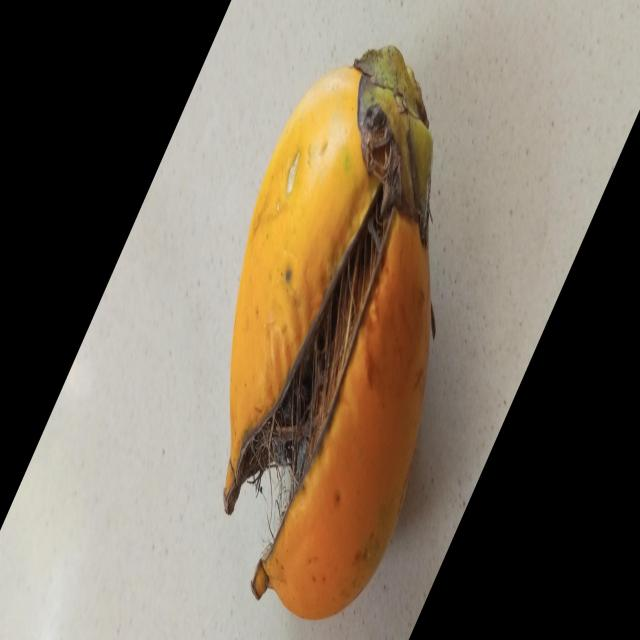damaged: (223, 46, 435, 620)
